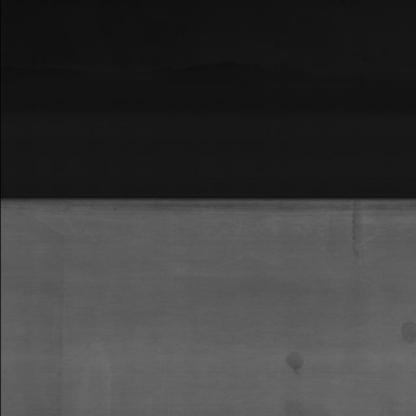oil_spot: (278, 339, 309, 381), (384, 317, 416, 347)
